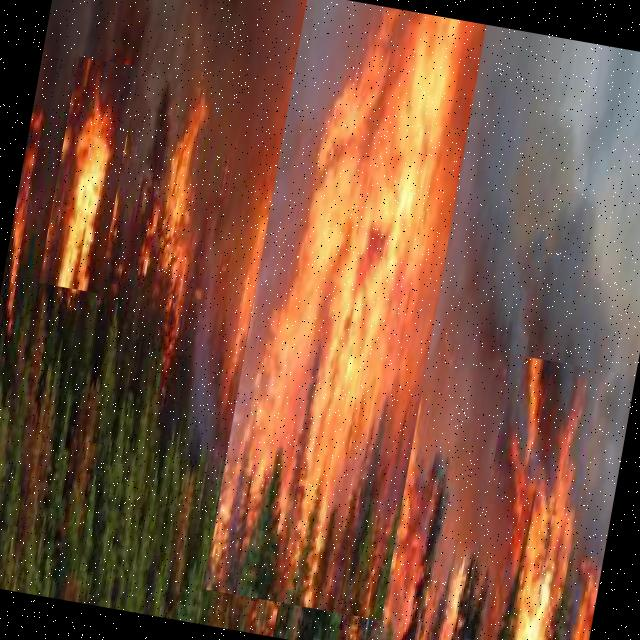fire: (202, 0, 485, 620), (456, 354, 635, 640), (38, 56, 138, 293)
